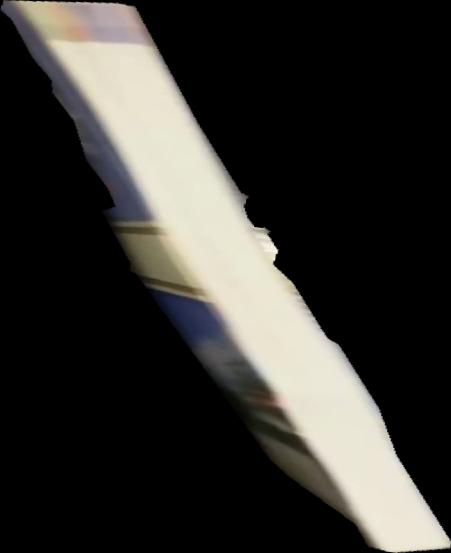backward: (1, 1, 451, 553)
